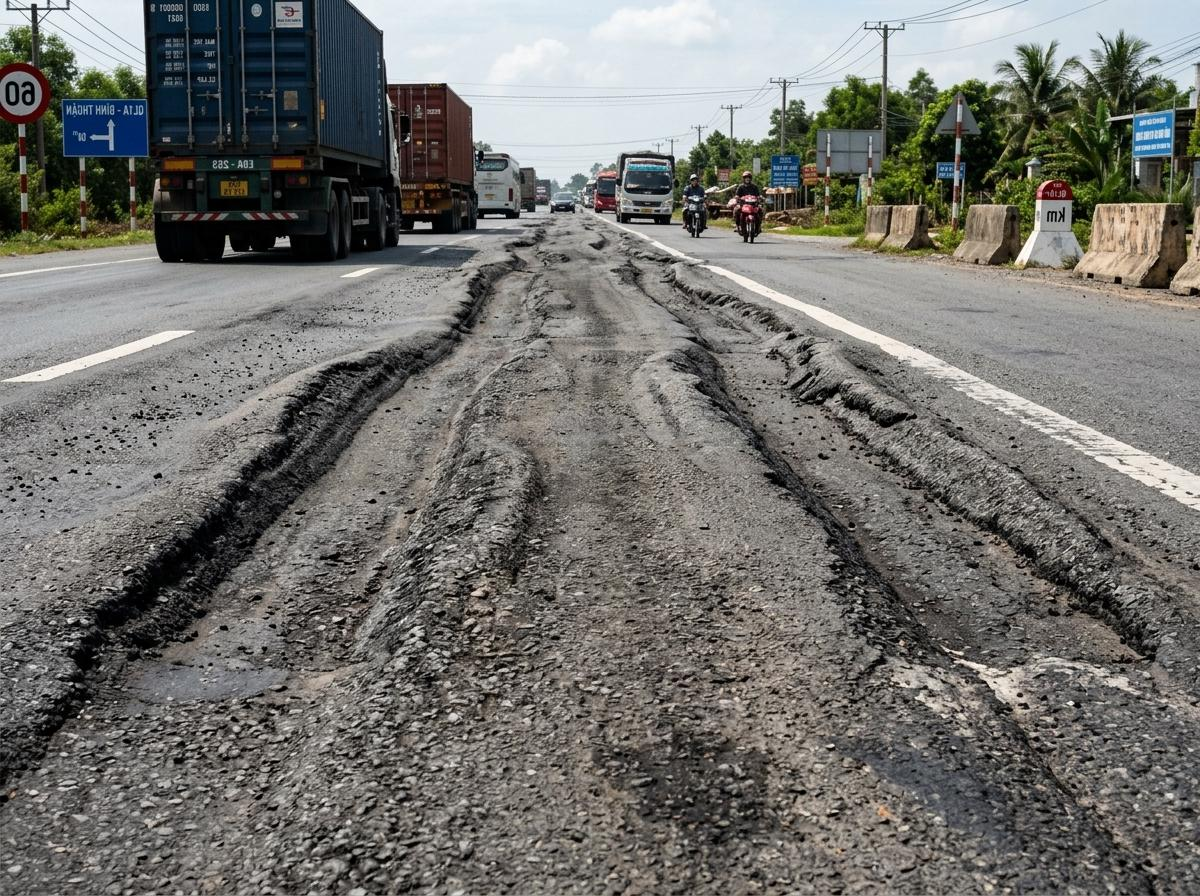POTHOLE: (640, 280, 1120, 820), (160, 300, 600, 820)
